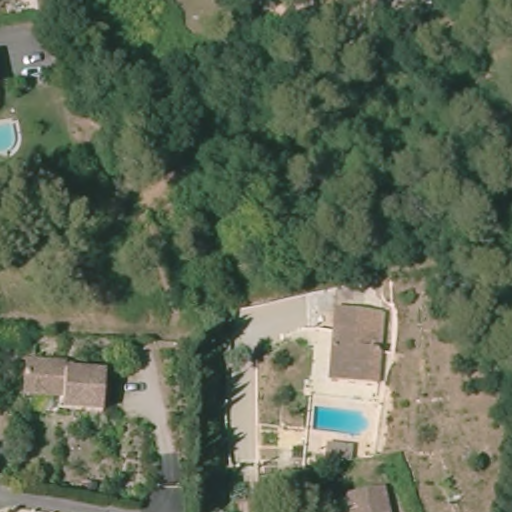pool: (308, 400, 374, 441), (1, 114, 19, 161)
